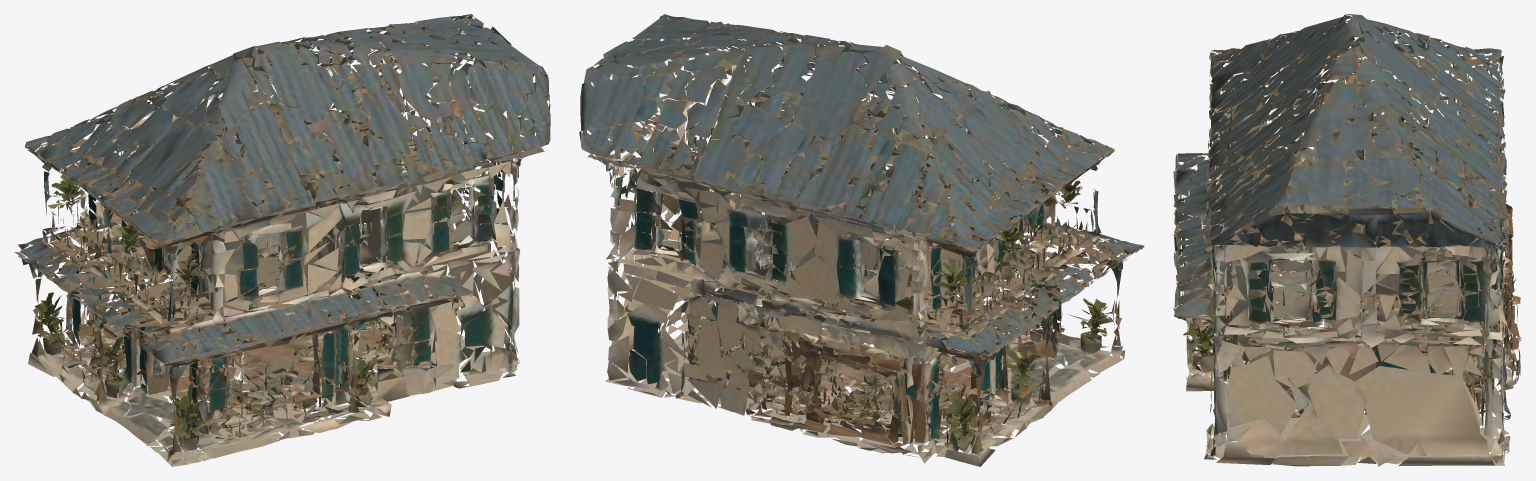
Rendered from cafe.glb.
3 views of the same model, side by side, from view 1: azimuth 30°, elevation 25°; view 2: azimuth 150°, elevation 25°; view 3: azimuth 270°, elevation 25° (orthographic). The views are drawn at different scales.
Parts seen in each view (by area): view 1: Mesh_0; view 2: Mesh_0; view 3: Mesh_0.
Boxes of the visible parts, bbox=[...] form: Mesh_0: bbox=[14, 14, 550, 466]; Mesh_0: bbox=[579, 14, 1144, 466]; Mesh_0: bbox=[1173, 14, 1521, 466].
Bounding box in the file's own units: 1.9 × 1.39 × 1.26.
Materials: 1 (1 with a texture image).
